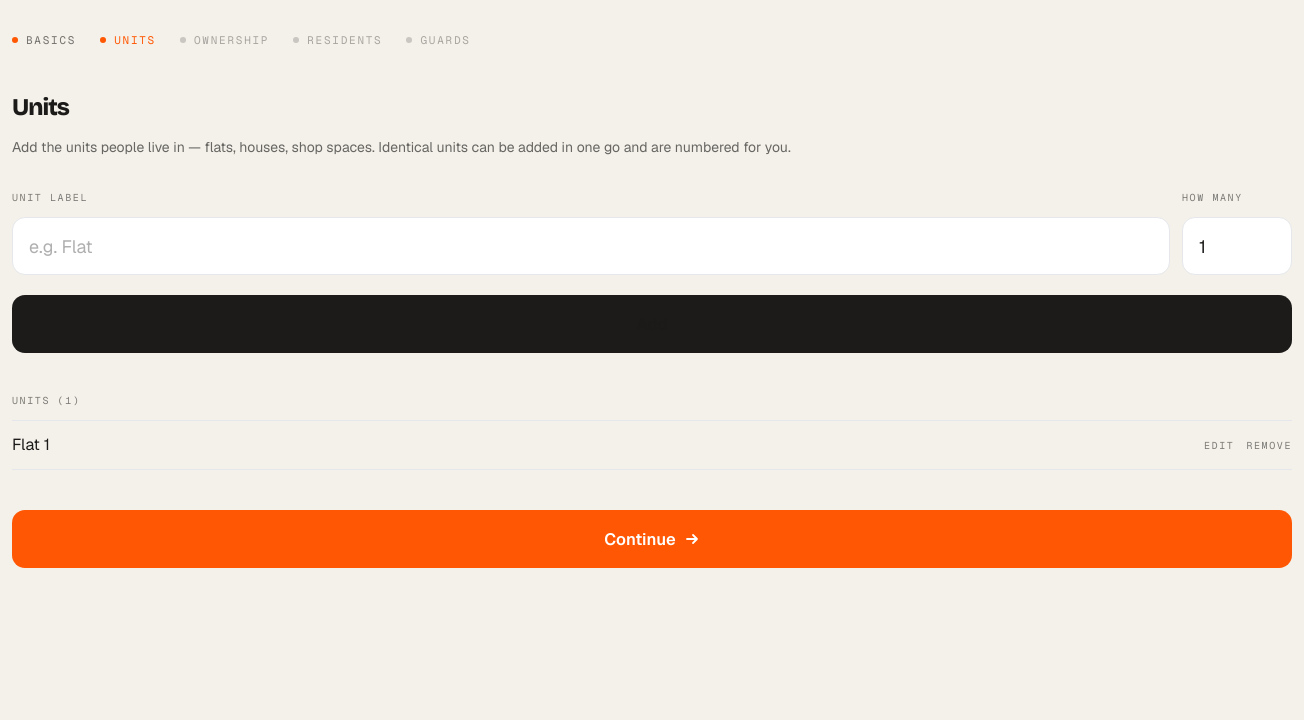
Test: CommunityWizard › advances to Ownership when Continue is clicked from the Units step
Click the button "Continue": [652, 539] box [12,510,1292,568]
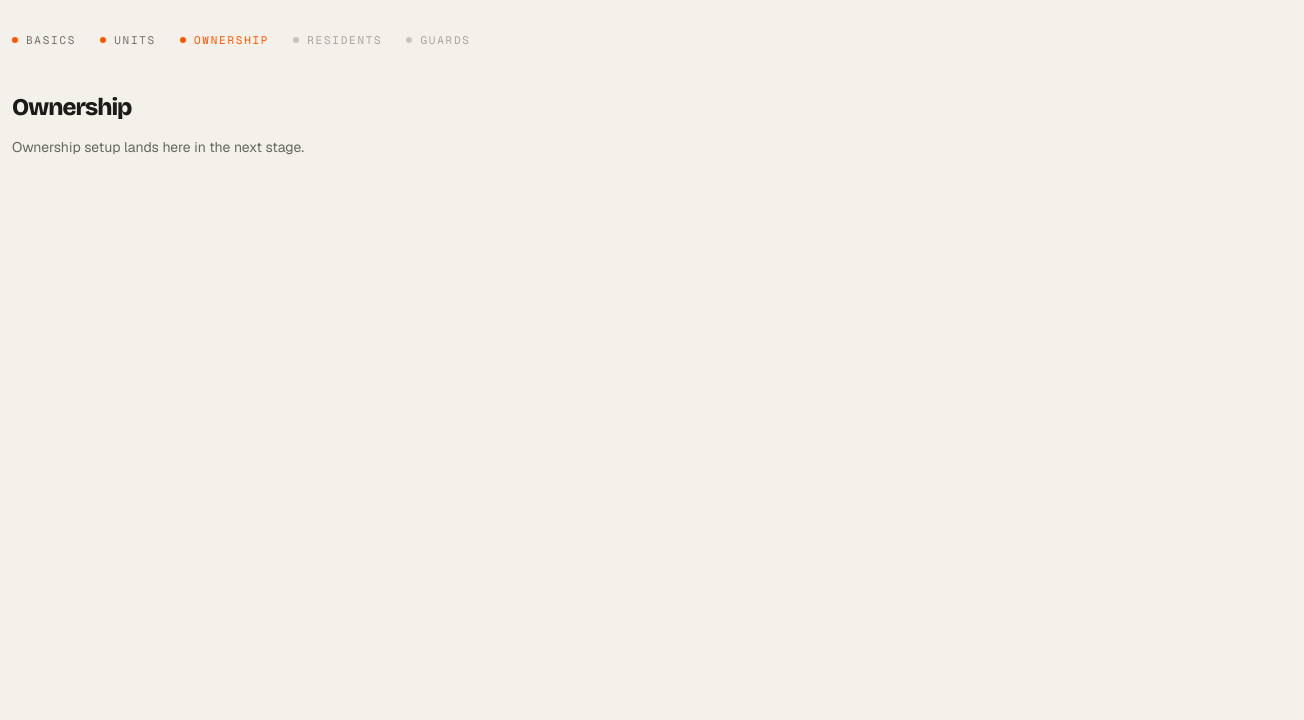
Expected: the text "Ownership setup lands here in the next stage." is shown, [12,138,304,156]
